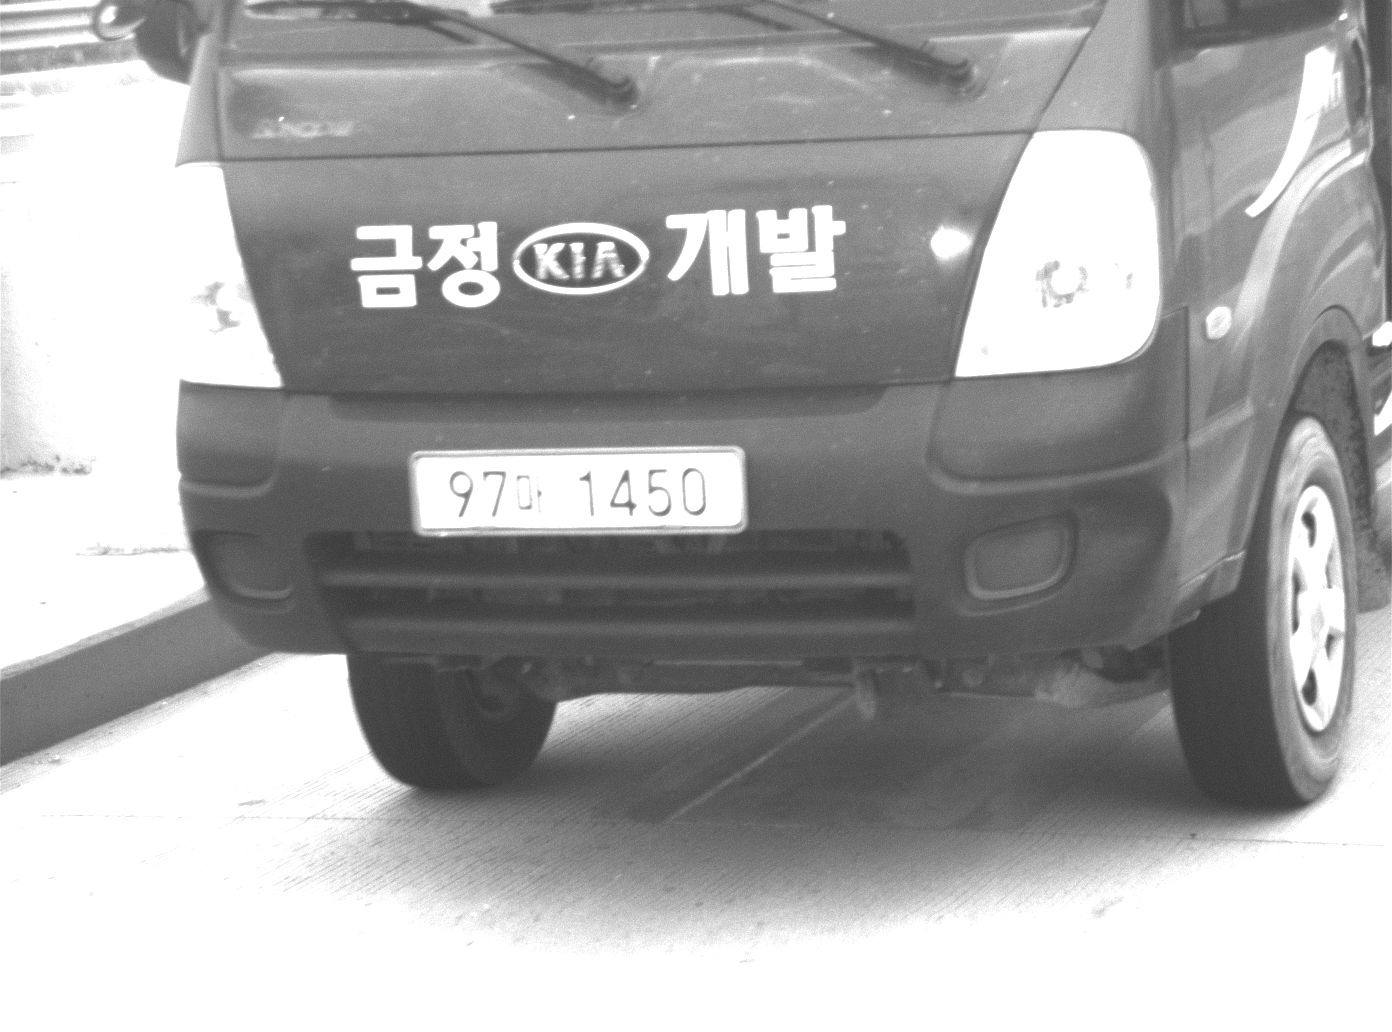car: (90, 3, 1392, 816)
plate: (403, 443, 751, 536)
